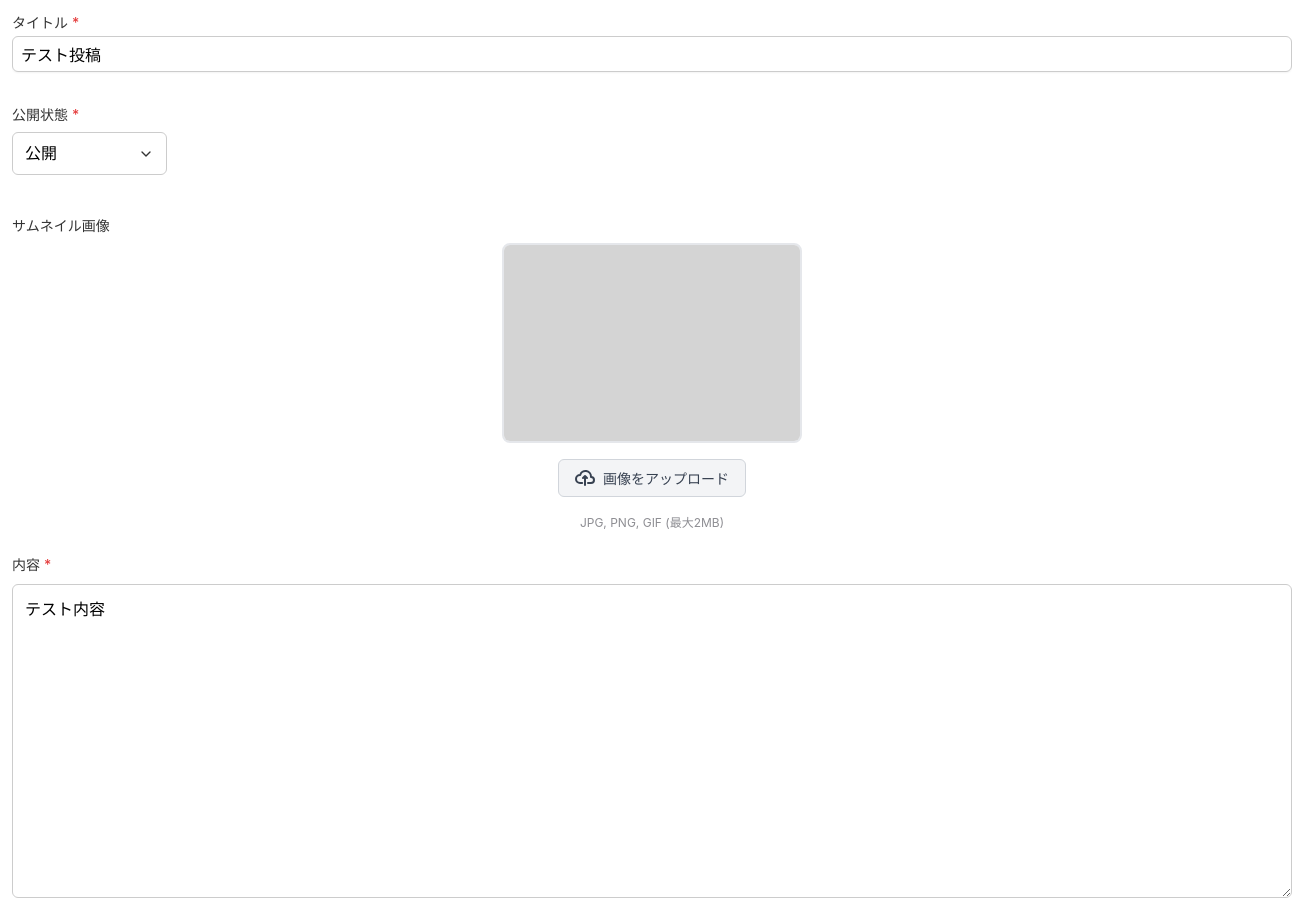
PostForm › タイトルが空の場合、エラーメッセージが表示されること
Clear the field labelled "タイトル*" at [652, 54], box [12,36,1292,72]
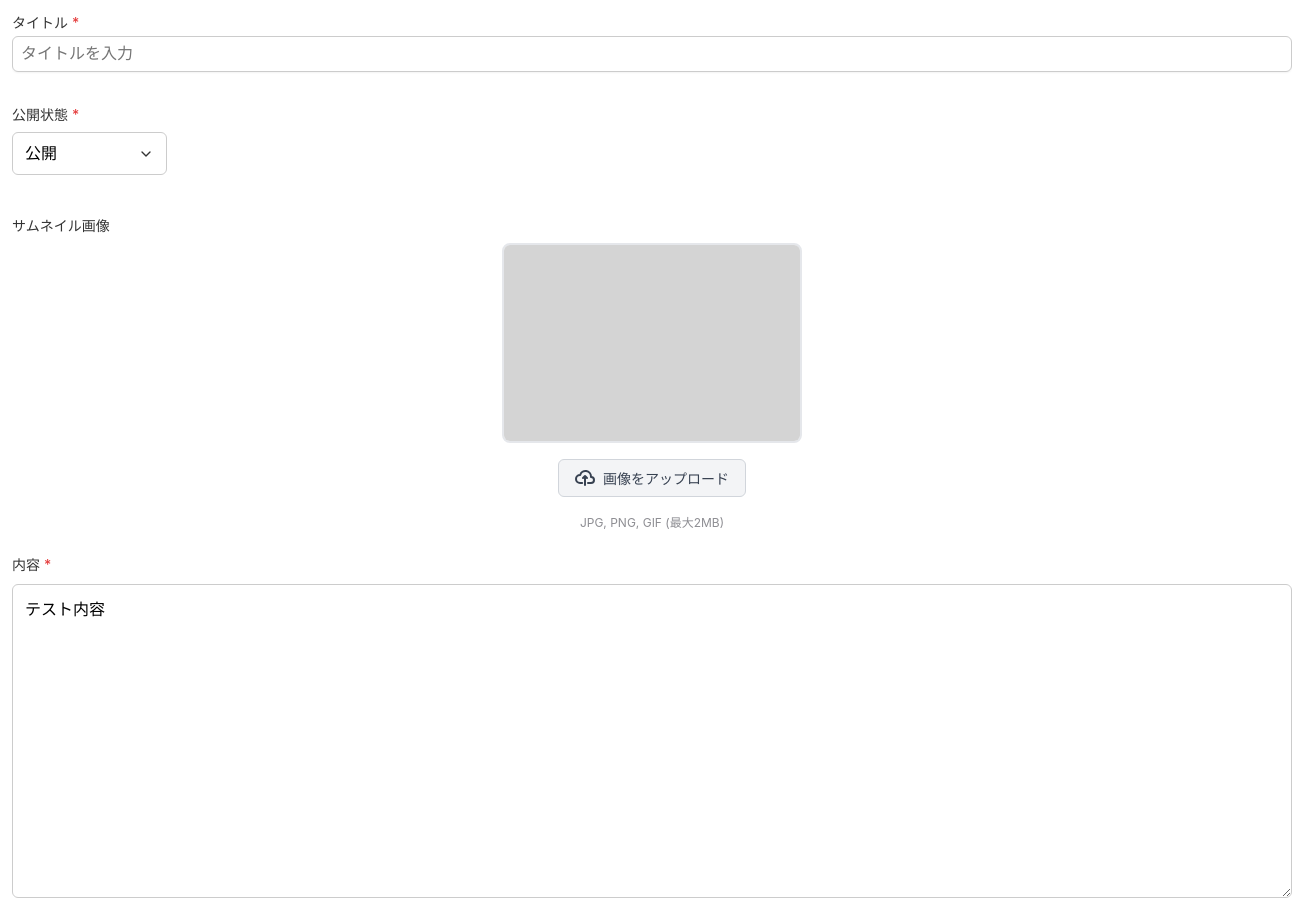
Leave the field labelled "タイトル*", box [12,36,1292,72]
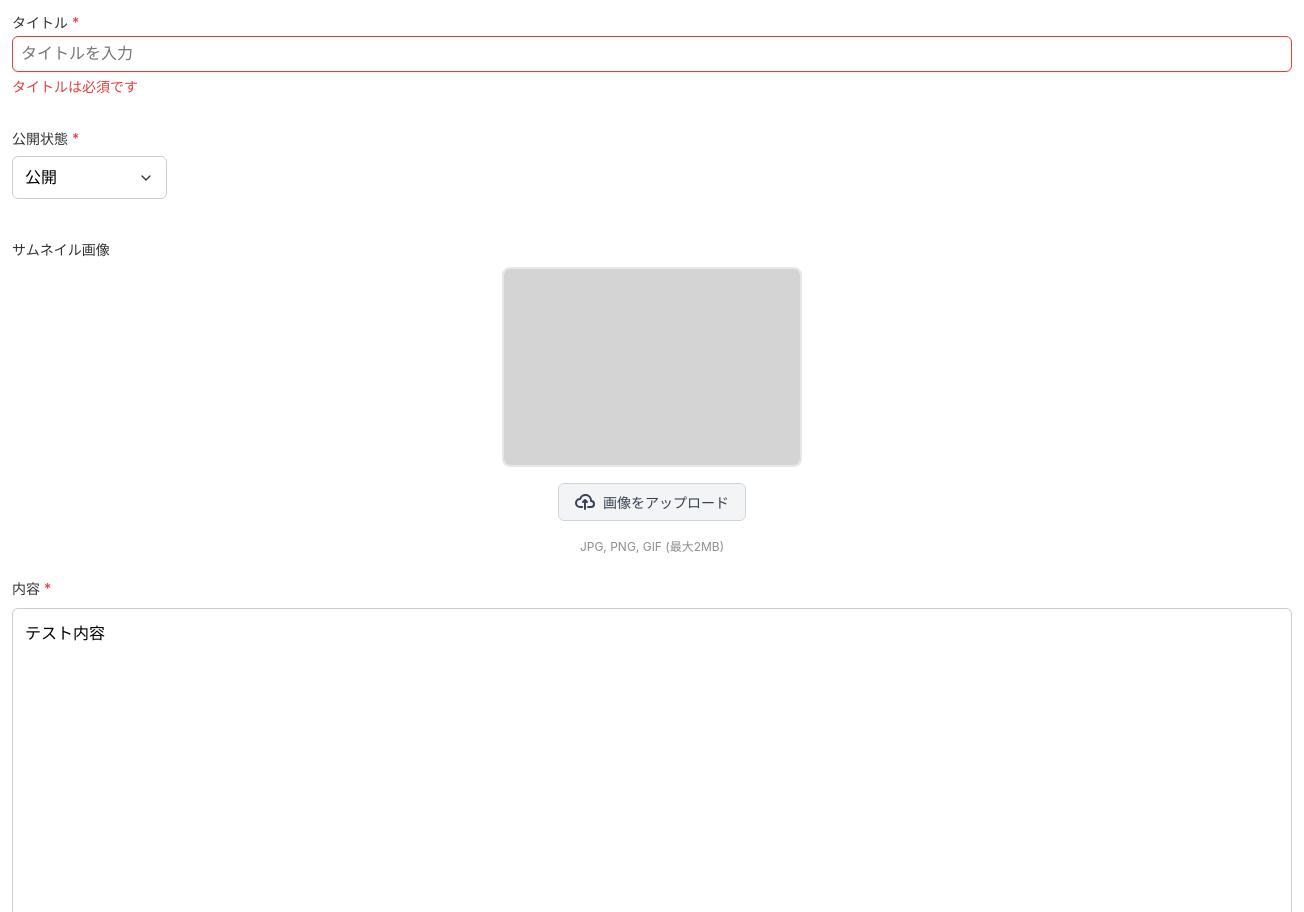
Result: the text "タイトルは必須です" is shown at [12,78,138,95]
